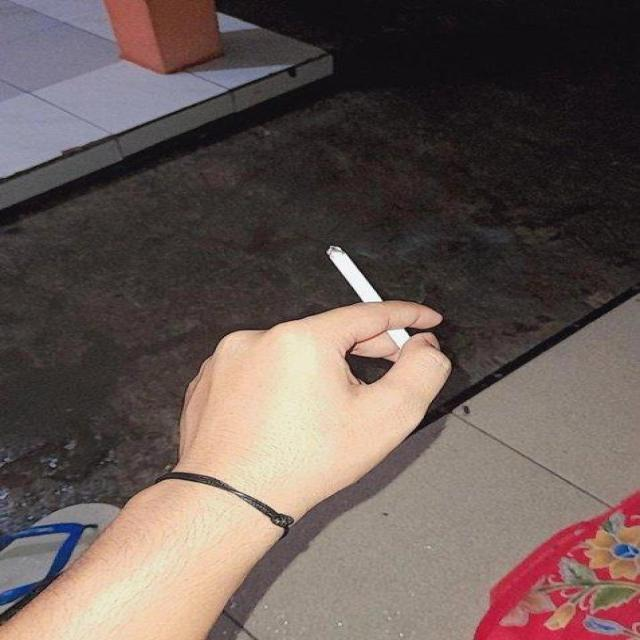rokok: (324, 238, 416, 354)
